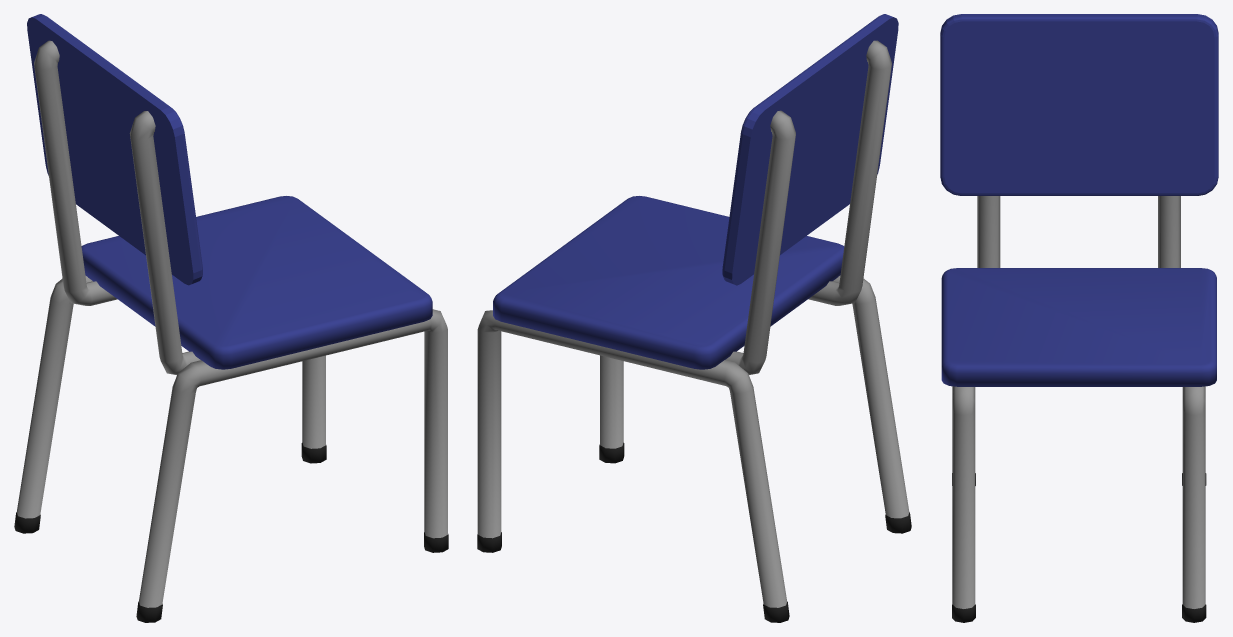
Rendered from chair.fbx.
The picture shows the model from 3 angles, left to right: view 1: azimuth 30°, elevation 25°; view 2: azimuth 150°, elevation 25°; view 3: azimuth 270°, elevation 25°; orthographic projection. The views are drawn at different scales.
Visible parts, largest first — view 1: Seat, Back, LegsL, BackBars, LegsR; view 2: Seat, Back, LegsR, BackBars, LegsL; view 3: Back, Seat, LegsR, LegsL, BackBars.
Part boxes in pixels (x1,y1,x2,y2): Seat: (81,196,432,369); Back: (27,14,202,285); LegsL: (136,309,448,622); BackBars: (34,40,200,375); LegsR: (14,275,326,533); Seat: (493,196,844,369); Back: (722,14,898,285); LegsR: (477,310,789,622); BackBars: (725,40,891,374); LegsL: (599,275,911,533); Back: (940,14,1218,195); Seat: (941,268,1216,386); LegsR: (1182,386,1206,622); LegsL: (952,386,975,622); BackBars: (977,196,1180,267).
Bounding box in the file's own units: 586 × 916 × 484.
